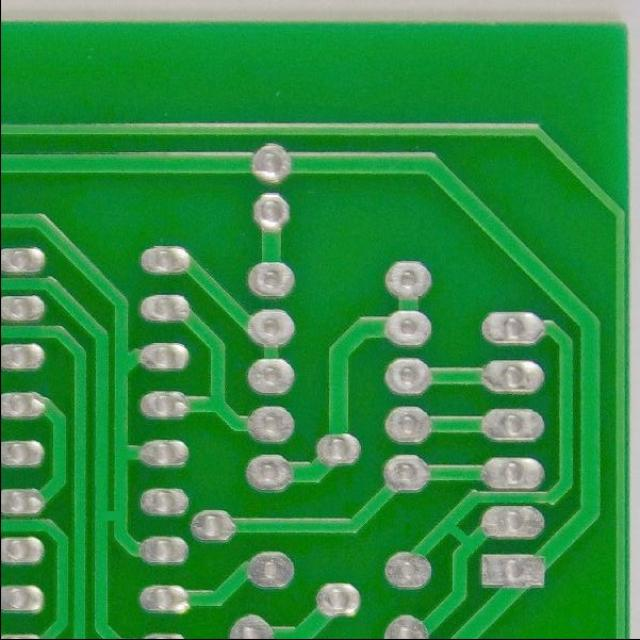Short_Circuit: (439, 514, 482, 555), (89, 500, 134, 532)
